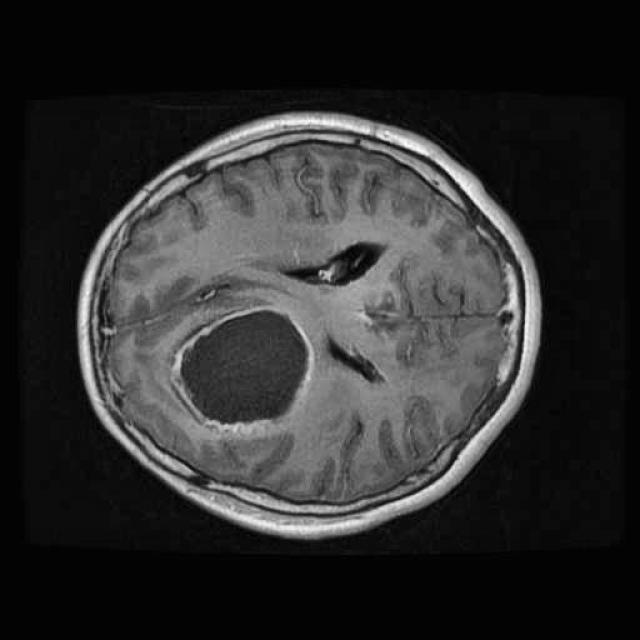Tumor: (156, 288, 325, 443)
